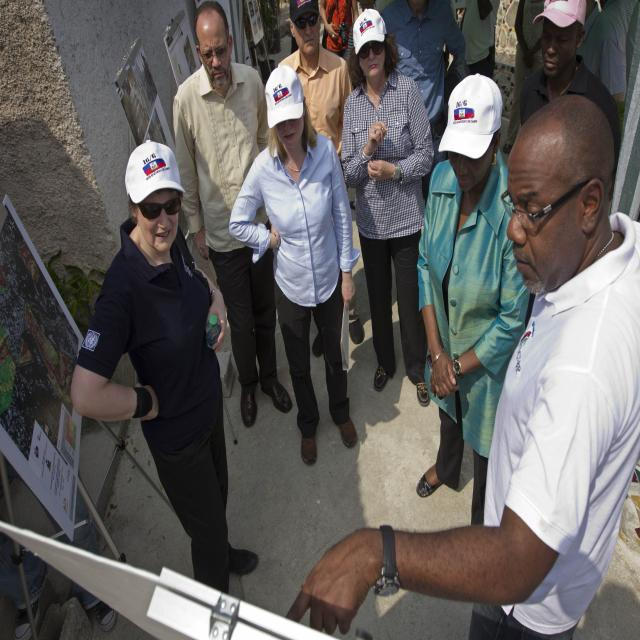body: (283, 92, 640, 638), (68, 139, 261, 594), (228, 62, 361, 468), (172, 0, 295, 431), (416, 72, 530, 529), (340, 8, 434, 410), (274, 0, 365, 360), (519, 0, 623, 204), (577, 0, 640, 98), (444, 0, 500, 97), (381, 0, 444, 80), (503, 0, 544, 81), (415, 80, 444, 192), (320, 0, 359, 61), (139, 50, 159, 134), (502, 81, 521, 154)
